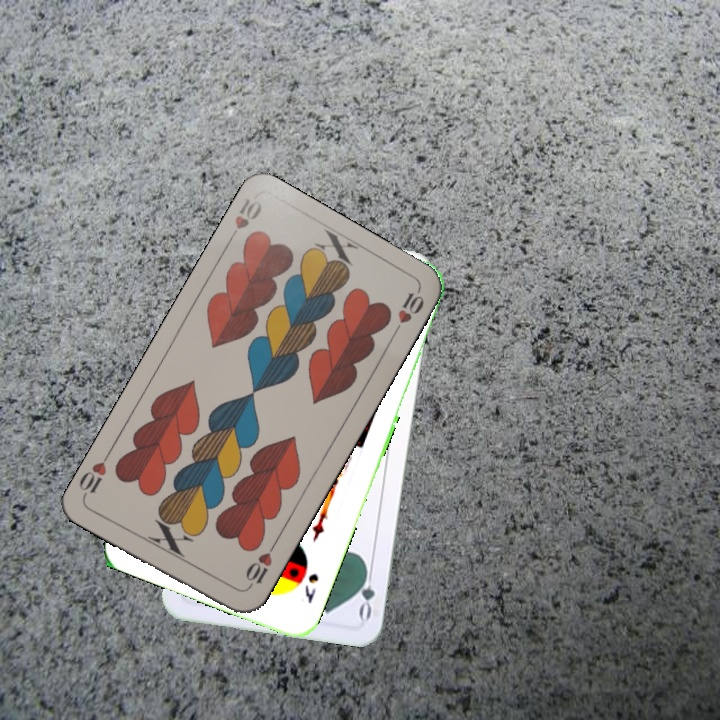GO: (354, 562, 378, 622)
H10: (223, 193, 265, 247), (241, 539, 279, 593)
SK: (300, 569, 322, 606)
